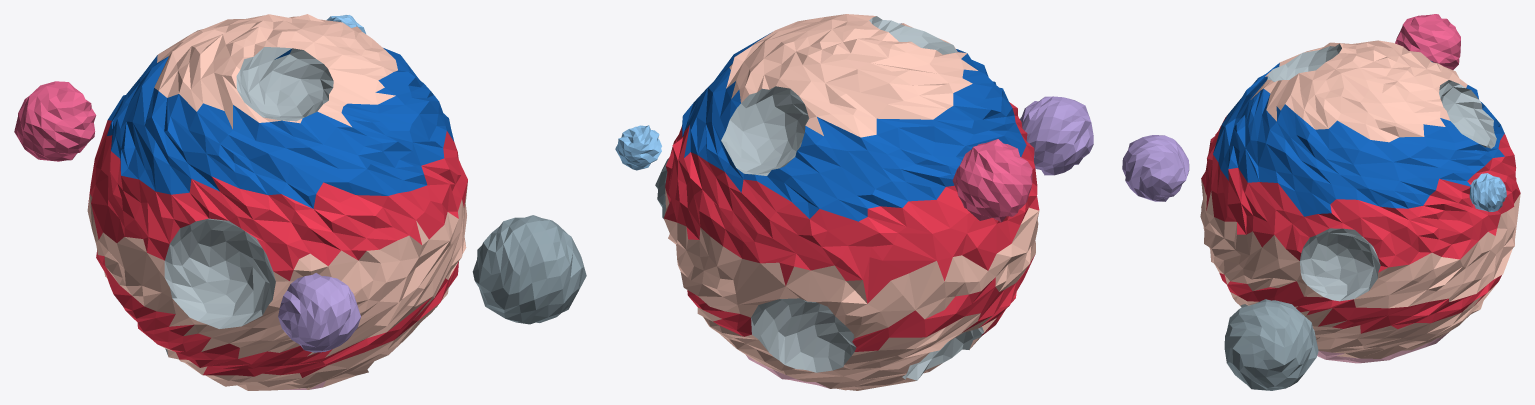
Rendered from Planet_37.glb.
The picture shows the model from 3 angles, left to right: view 1: azimuth 30°, elevation 25°; view 2: azimuth 150°, elevation 25°; view 3: azimuth 270°, elevation 25°; orthographic projection. The views are drawn at different scales.
Visible parts, largest first — view 1: Planet_37; view 2: Planet_37; view 3: Planet_37.
Part boxes in pixels (box(x1,y1,x2,y2)): Planet_37: box(14, 14, 586, 390); Planet_37: box(615, 14, 1093, 390); Planet_37: box(1122, 14, 1520, 390).
Size of the model in its own units: 28.16 by 20.18 by 24.93.
1 material, 1 textured.
